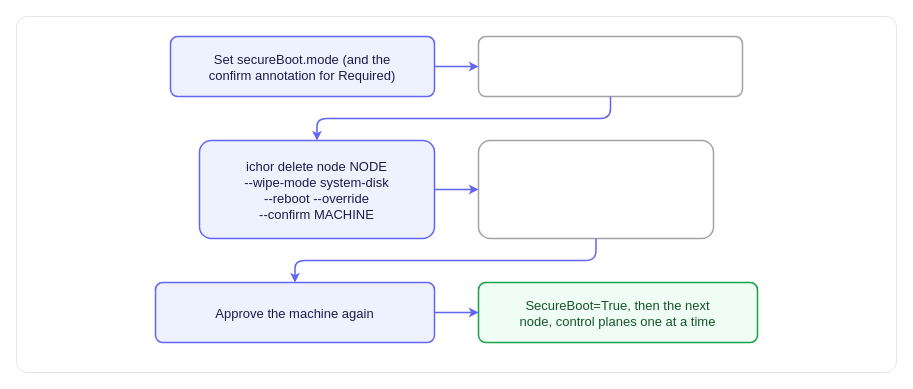
Image size: 913x389. Some labels were removed from this diagram. The centre of each missing label's shape, as x and y in pixels:
Back up etcd: pixel 610 66
Boot the SecureBoot ISO with firmware in setup mode: keys are enrolled: pixel 595 189
